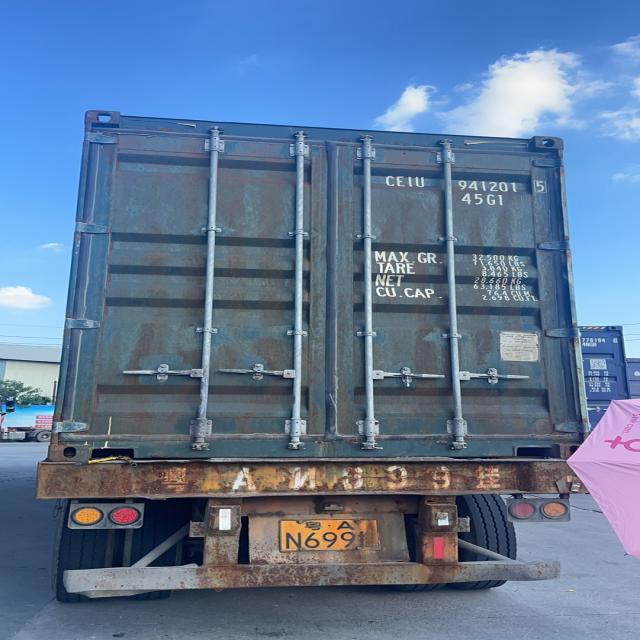ISO: (455, 190, 508, 210)
container_number: (383, 172, 552, 194)
